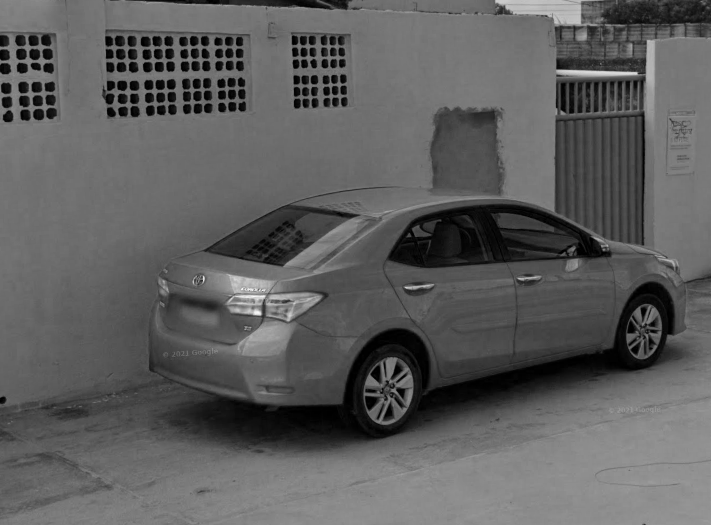car: (145, 183, 687, 439)
